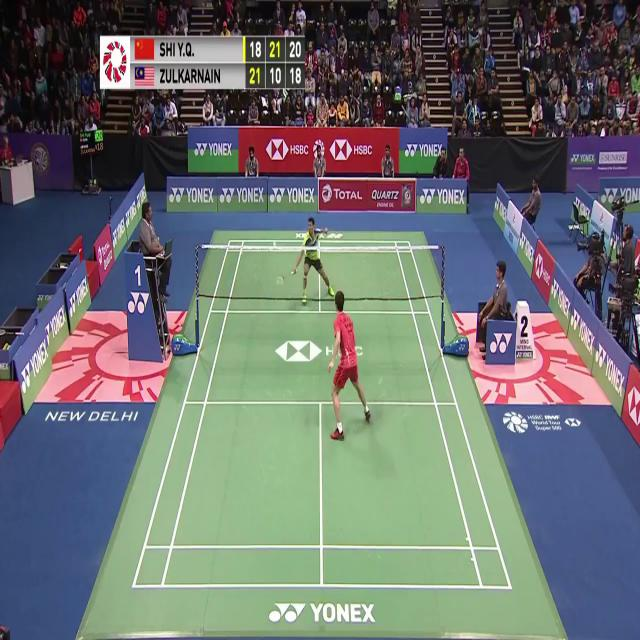Shuttlecock: (270, 239, 276, 250)
